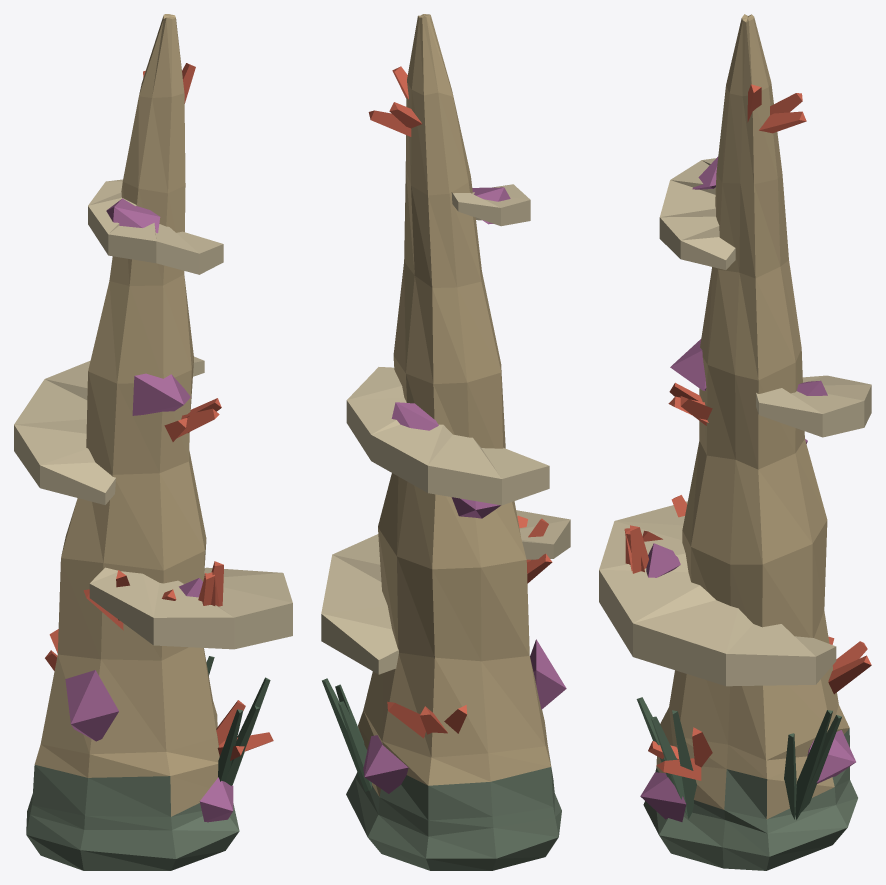
Rendered from pf_coral-pinnacle-0d9756.glb.
3 views of the same model, side by side, from view 1: azimuth 30°, elevation 25°; view 2: azimuth 150°, elevation 25°; view 3: azimuth 270°, elevation 25° (orthographic). The views are drawn at different scales.
Visible parts, largest first — view 1: coral-pinnacle-shell, algae-a-blades; view 2: coral-pinnacle-shell, algae-b-blades; view 3: coral-pinnacle-shell, algae-b-blades, algae-a-blades.
Boxes of the visible parts, x1,y1,x2,y2 form: coral-pinnacle-shell: [14, 14, 292, 870]; algae-a-blades: [218, 677, 270, 785]; coral-pinnacle-shell: [321, 14, 570, 870]; algae-b-blades: [322, 678, 371, 791]; coral-pinnacle-shell: [599, 14, 871, 870]; algae-b-blades: [784, 710, 841, 819]; algae-a-blades: [636, 697, 696, 819].
Size of the model in its own units: 1.25 by 4.01 by 1.2.
